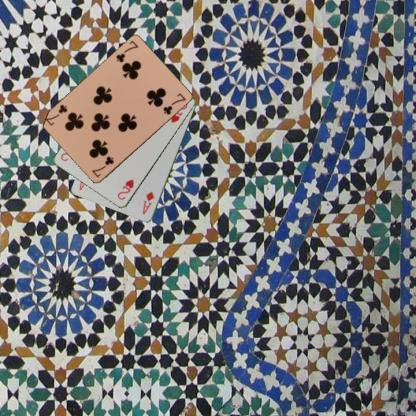2h: (115, 177, 135, 201)
7c: (113, 38, 139, 64), (90, 154, 116, 179)
Ad: (140, 189, 155, 216)
